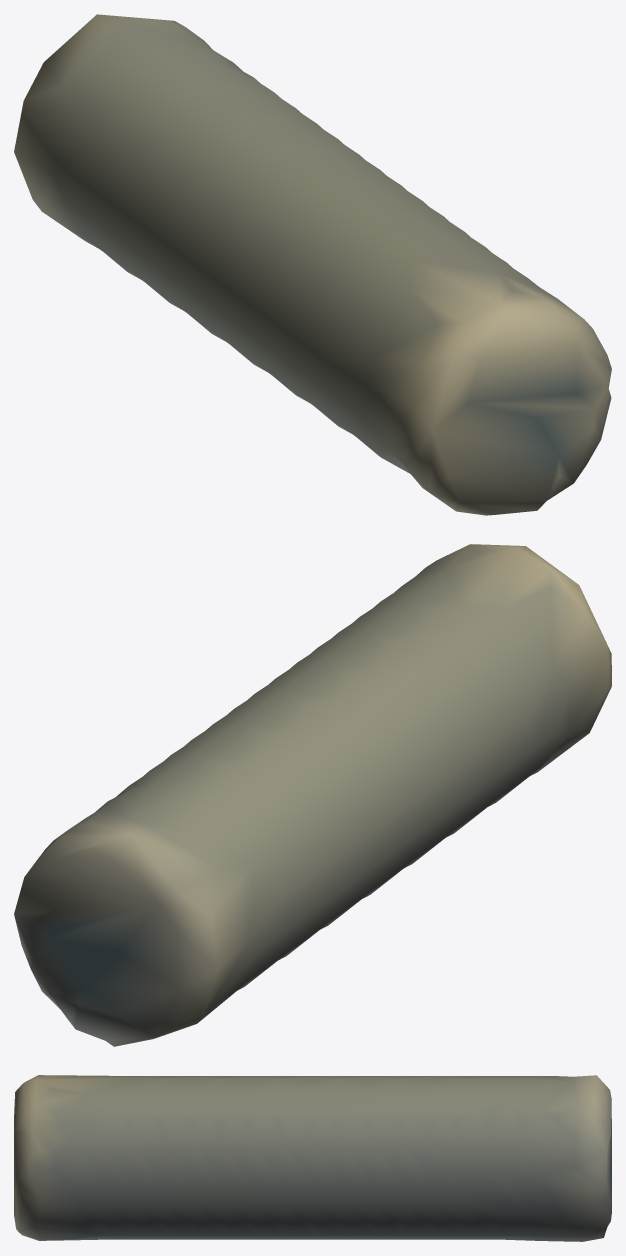
File: hero_rifle_suppressor.glb
The picture shows the model from 3 angles, top to bottom: view 1: azimuth 30°, elevation 25°; view 2: azimuth 150°, elevation 25°; view 3: azimuth 270°, elevation 25°; orthographic projection. The views are drawn at different scales.
Parts seen in each view (by area): view 1: geometry_0; view 2: geometry_0; view 3: geometry_0.
Part boxes in pixels (x1,y1,x2,y2): geometry_0: [14, 14, 611, 515]; geometry_0: [14, 544, 611, 1046]; geometry_0: [14, 1075, 611, 1241].
Size of the model in its own units: 0.0503 by 0.0508 by 0.18.
